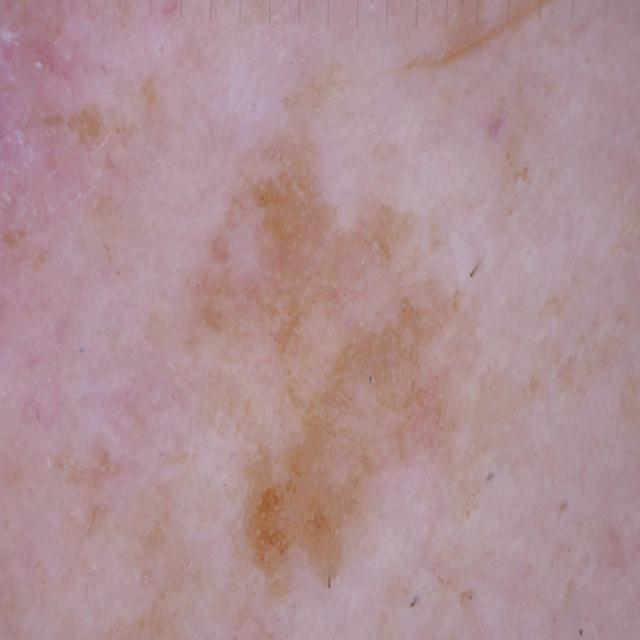Keratosis: (142, 242, 397, 586), (273, 79, 545, 257), (197, 513, 408, 640), (0, 6, 125, 220)
